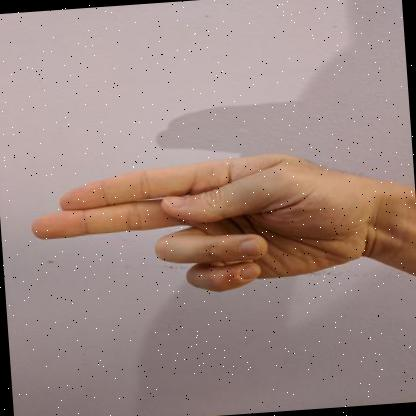H: (32, 154, 377, 292)
